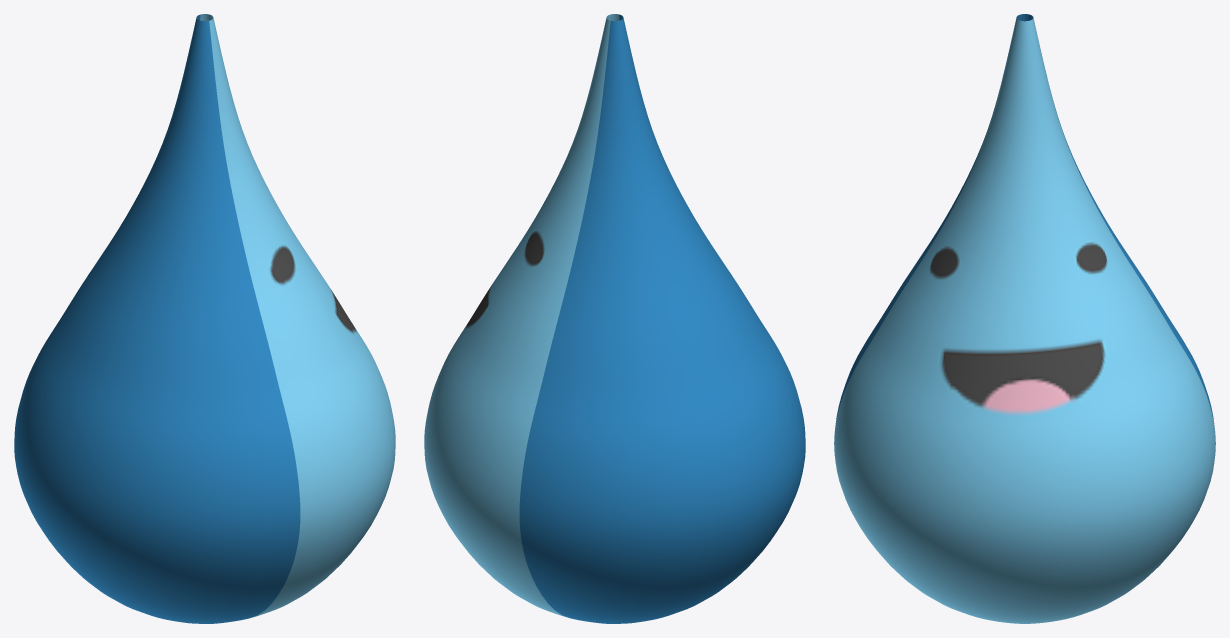
Rendered from dropplet.obj.
3 renders of one model, left to right at view 1: azimuth 30°, elevation 25°; view 2: azimuth 150°, elevation 25°; view 3: azimuth 270°, elevation 25°, orthographic.
Visible parts, largest first — view 1: Circle_Circle.001; view 2: Circle_Circle.001; view 3: Circle_Circle.001.
Part boxes in pixels (box(x1,y1,x2,y2)): Circle_Circle.001: box(14, 14, 395, 623); Circle_Circle.001: box(424, 14, 805, 623); Circle_Circle.001: box(834, 14, 1215, 623).
Bounding box in the file's own units: 2.81 × 4.82 × 2.81.
